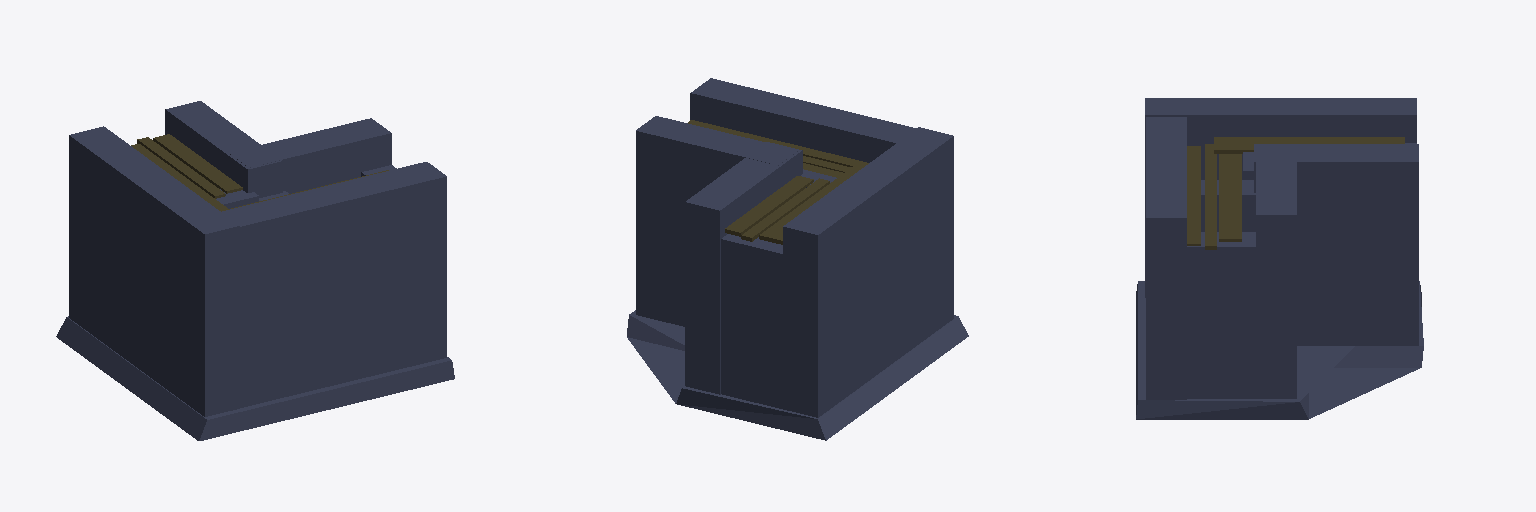
File: wallcorn.obj
The picture shows the model from 3 angles: view 1: azimuth 30°, elevation 25°; view 2: azimuth 150°, elevation 25°; view 3: azimuth 270°, elevation 25°; orthographic projection.
Parts seen in each view (by area): view 1: group2 castlewall3:group1pCube2, group2 group1pCube2, group2 Platform, group2 group1pCube4, group2 group1pCube3, group2 PlankFBXASC046006, group2 PlankFBXASC046005, group2 PlankFBXASC046004; view 2: group2 group1pCube2, group2 group1pCube4, group2 group1pCube3, group2 WallFBXASC046002, group2 Platform, group2 castlewall3:group1pCube2, group2 PlankFBXASC046006, group2 PlankFBXASC046005, group2 PlankFBXASC046004, group2 PlankFBXASC046001; view 3: group2 group1pCube3, group2 castlewall3:group1pCube2, group2 Platform, WallFBXASC046004 group2, group2 group1pCube2, group2 group1pCube4, group2 PlankFBXASC046003, group2 PlankFBXASC046004, group2 PlankFBXASC046001, group2 PlankFBXASC046002, group2 WallFBXASC046005.
Boxes of the visible parts, x1,y1,x2,y2 form: group2 castlewall3:group1pCube2: [222, 162, 446, 407]; group2 group1pCube2: [69, 126, 239, 416]; group2 Platform: [56, 316, 454, 440]; group2 group1pCube4: [229, 118, 391, 193]; group2 group1pCube3: [165, 101, 282, 197]; group2 PlankFBXASC046006: [153, 134, 242, 193]; group2 PlankFBXASC046005: [137, 137, 225, 198]; group2 PlankFBXASC046004: [131, 144, 229, 211]; group2 group1pCube2: [783, 127, 953, 417]; group2 group1pCube4: [636, 116, 798, 326]; group2 group1pCube3: [685, 142, 802, 394]; group2 WallFBXASC046002: [721, 234, 784, 409]; group2 Platform: [627, 310, 968, 440]; group2 castlewall3:group1pCube2: [690, 78, 916, 162]; group2 PlankFBXASC046006: [725, 176, 813, 236]; group2 PlankFBXASC046005: [741, 178, 829, 241]; group2 PlankFBXASC046004: [759, 165, 863, 244]; group2 PlankFBXASC046001: [688, 120, 868, 166]; group2 group1pCube3: [1254, 144, 1418, 345]; group2 castlewall3:group1pCube2: [1146, 117, 1186, 399]; group2 Platform: [1136, 281, 1423, 419]; WallFBXASC046004 group2: [1187, 232, 1255, 398]; group2 group1pCube2: [1145, 98, 1416, 297]; group2 group1pCube4: [1256, 145, 1296, 398]; group2 PlankFBXASC046003: [1219, 154, 1241, 241]; group2 PlankFBXASC046004: [1214, 137, 1404, 153]; group2 PlankFBXASC046001: [1187, 146, 1200, 245]; group2 PlankFBXASC046002: [1205, 144, 1216, 249]; group2 WallFBXASC046005: [1201, 180, 1255, 231].
Bounding box in the file's own units: 73 × 54.81 × 70.51.